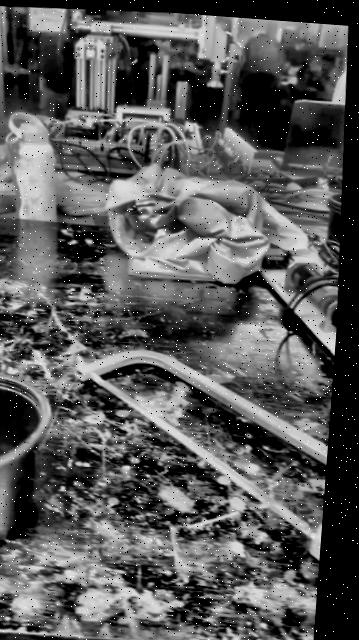pot: (0, 373, 52, 559)
